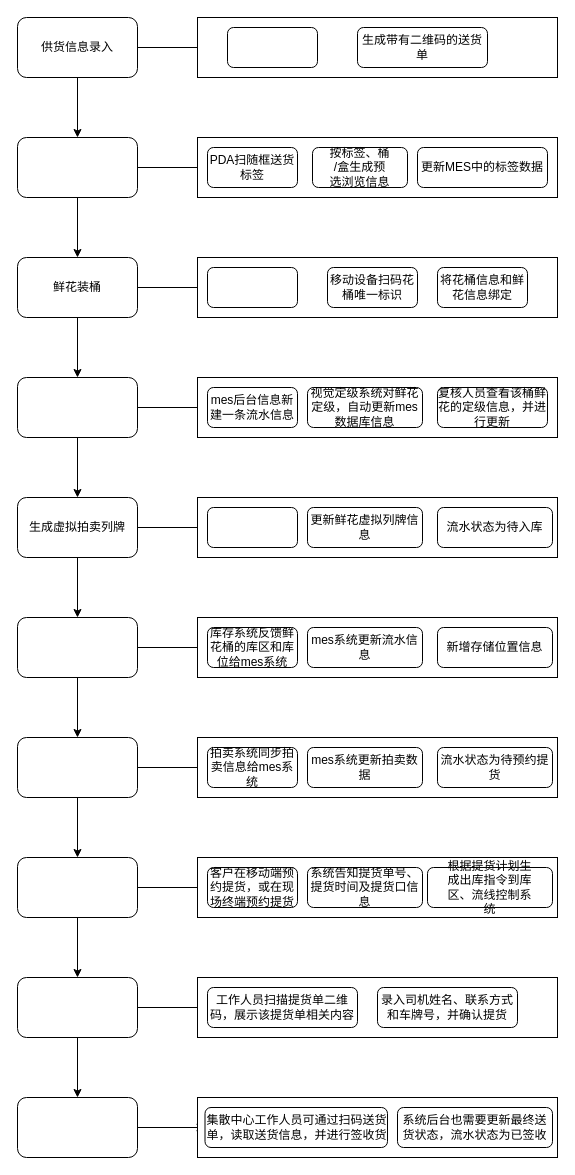
Some shapes in this 575 by 1175 pixel diagram are drawn without their labels. Each missing label, with the centre of its shape:
"PDA扫码录入本批次送花信息" goes at (x=272, y=47).
"客户/集散中心签收" goes at (x=77, y=1127).
"收花" goes at (x=77, y=167).
"桶入库" goes at (x=77, y=647).
"流媒体识别捕捉鲜花的花枝信息" goes at (x=252, y=287).
"现场提货" goes at (x=77, y=1007).
"系统自动生成虚拟列牌" goes at (x=252, y=527).
"预约提货" goes at (x=77, y=887).
"鲜花定级" goes at (x=77, y=407).
"鲜花拍卖" goes at (x=77, y=767).
